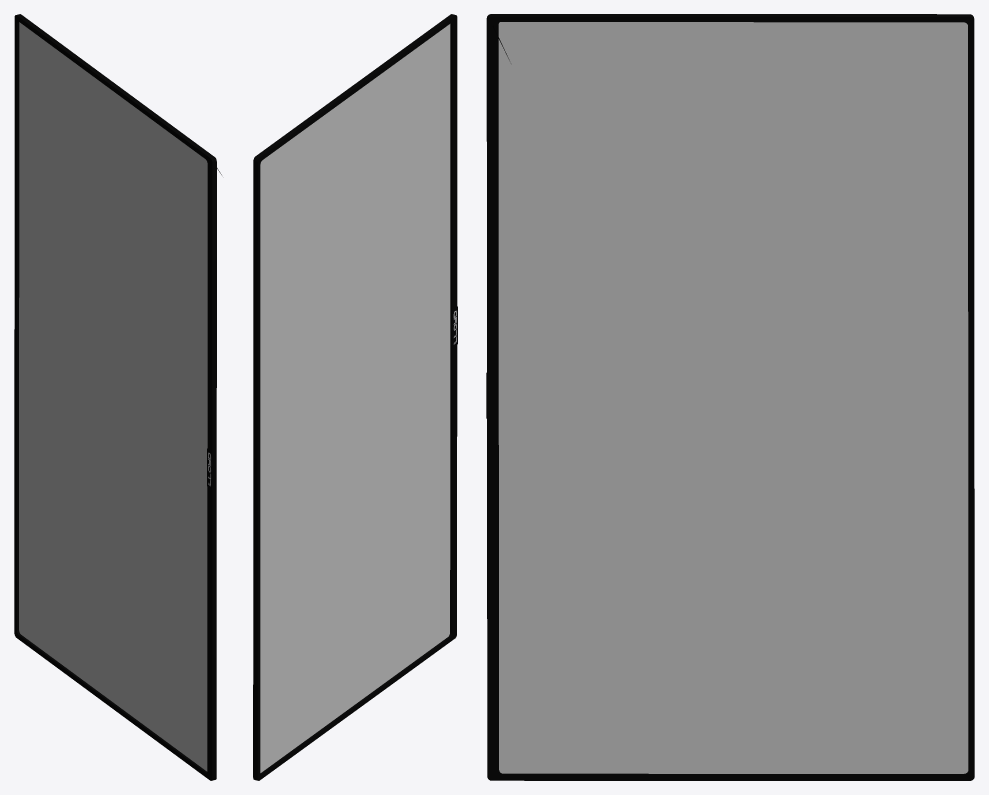
The model's file is tv_display.glb.
3 views of the same model, side by side, from view 1: azimuth 30°, elevation 25°; view 2: azimuth 150°, elevation 25°; view 3: azimuth 270°, elevation 25° (orthographic). The views are drawn at different scales.
Visible parts, largest first — view 1: Lloyd_tv; view 2: Lloyd_tv; view 3: Lloyd_tv.
Part boxes in pixels (x1,y1,x2,y2): Lloyd_tv: [14, 14, 221, 780]; Lloyd_tv: [253, 14, 457, 780]; Lloyd_tv: [486, 14, 974, 780].
Bounding box in the file's own units: 0.0721 × 1.82 × 1.06.
Materials: 2 (1 with a texture image).
